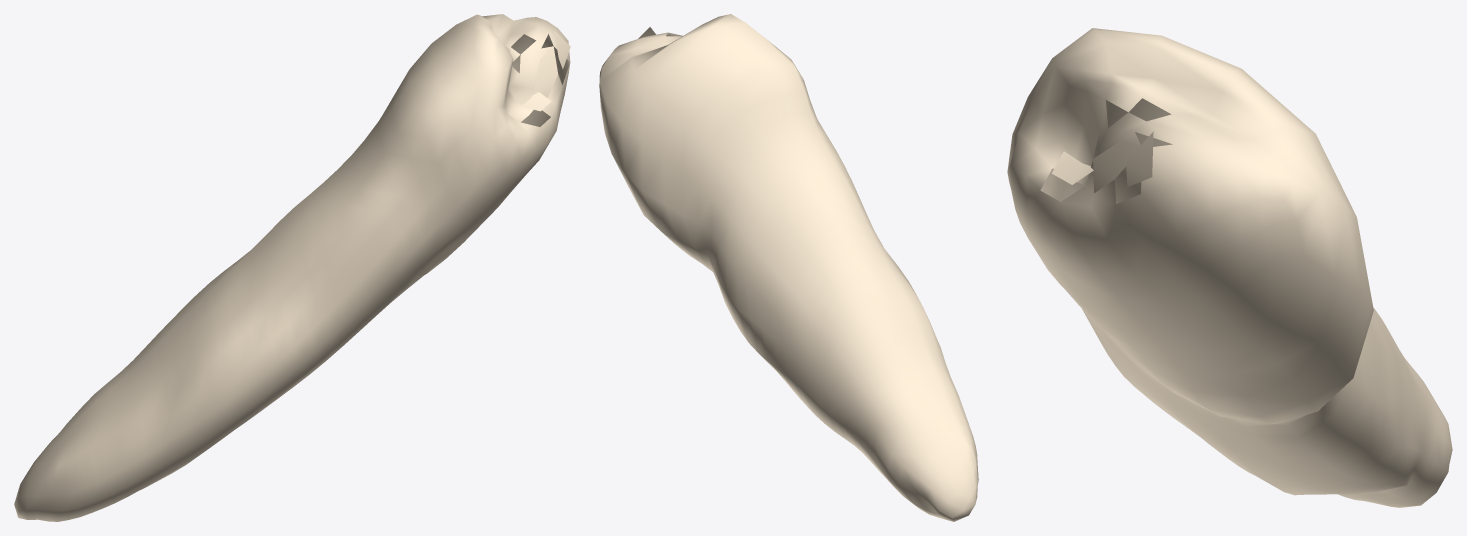
File: scaledcavitytooth.fbx
The picture shows the model from 3 angles, left to right: view 1: azimuth 30°, elevation 25°; view 2: azimuth 150°, elevation 25°; view 3: azimuth 270°, elevation 25°; orthographic projection. The views are drawn at different scales.
Parts seen in each view (by area): view 1: LT-11.005; view 2: LT-11.005; view 3: LT-11.005.
Part boxes in pixels (x1,y1,x2,y2): LT-11.005: (14,14,570,521); LT-11.005: (599,14,978,521); LT-11.005: (1007,28,1452,507).
Size of the model in its own units: 46.5 by 41.02 by 22.09.
